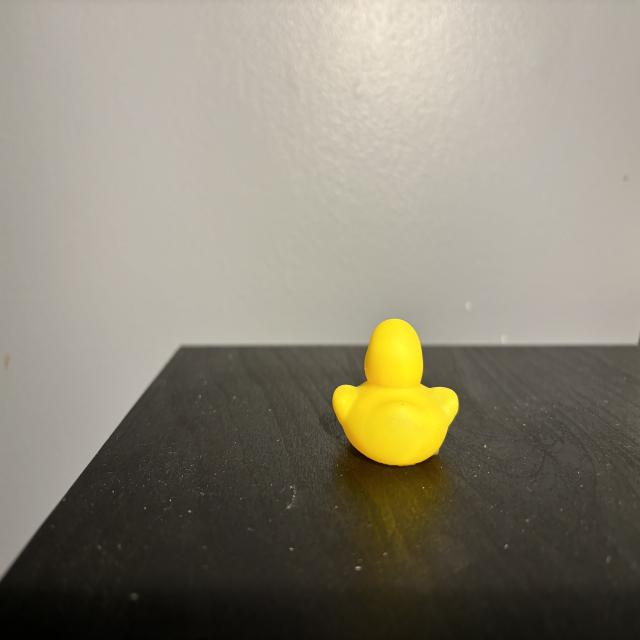duck_regular: (334, 319, 459, 467)
